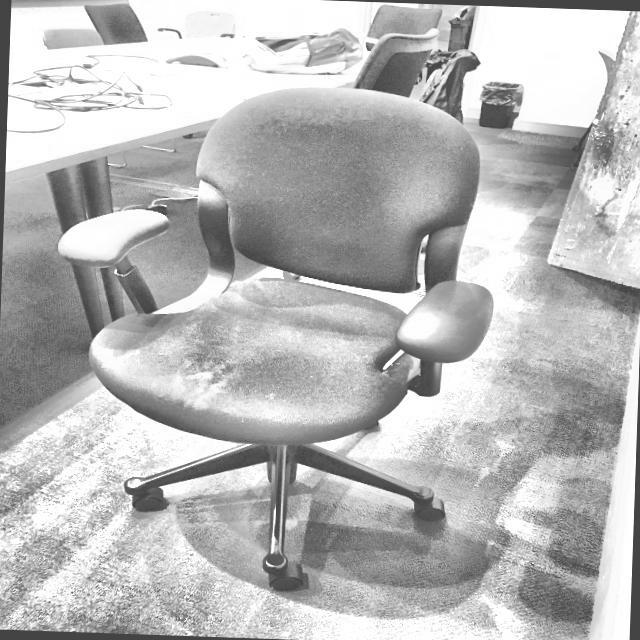chair: (40, 73, 504, 600)
